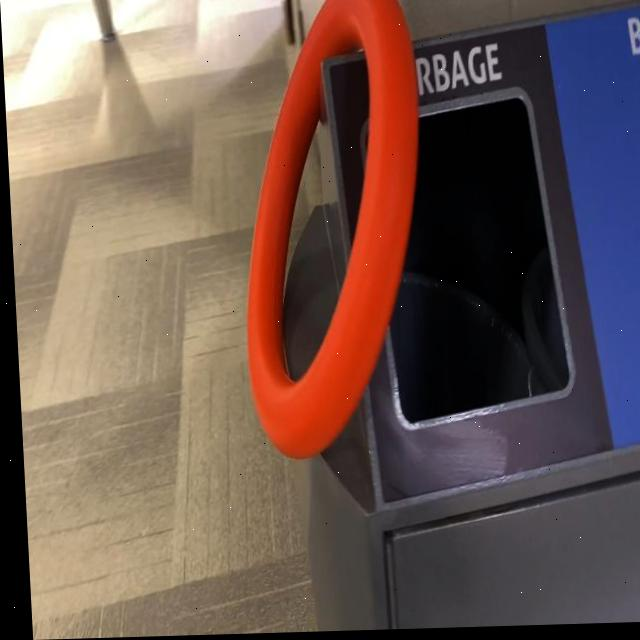note: (228, 0, 433, 465)
